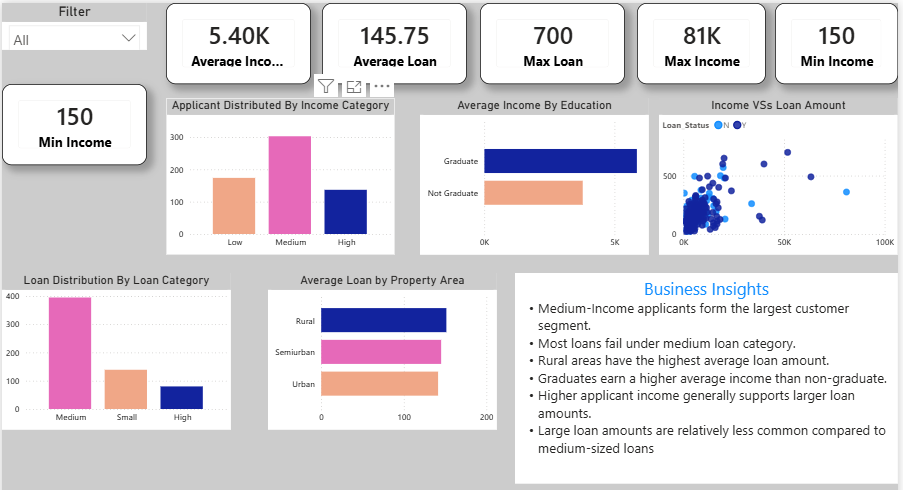

Layout of this report page (visuals, bound fields, positions):
{"tool":"powerbi","page":{"name":"Income & Loan Insights","canvas":[1280,720],"ordinal":2},"visuals":[{"type":"slicer","title":"Filter","fields":{"Values":["Loan_cleaned.Property_Area","Loan_cleaned.Education","Loan_cleaned.Loan_Status","Loan_cleaned.Income_Category"]},"box":[0,0,207.1,67.1],"z":0},{"type":"cardVisual","fields":{"Data":["Measures (2).Average Income"]},"box":[234.3,0,207.1,115.7],"z":1000},{"type":"cardVisual","fields":{"Data":["Measures (2).Average Loan"]},"box":[457.1,0,207.1,115.7],"z":2000},{"type":"cardVisual","fields":{"Data":["Measures (2).Max Loan"]},"box":[682.9,0,207.1,115.7],"z":3000},{"type":"cardVisual","fields":{"Data":["Measures (2).Max Income"]},"box":[907.1,0,184.3,115.7],"z":4000},{"type":"cardVisual","fields":{"Data":["Measures (2).Min Income"]},"box":[1104.3,0,175.7,115.7],"z":5000},{"type":"cardVisual","fields":{"Data":["Measures (2).Min Income"]},"box":[0,115.7,207.1,115.7],"z":6000},{"type":"clusteredColumnChart","title":"Applicant Distributed By Income Category","fields":{"Category":["Loan_cleaned.Income_Category"],"Y":["Measures (2).Total Applicants"]},"box":[234.3,135.7,327.1,224.3],"z":7000},{"type":"clusteredColumnChart","title":"Loan Distribution By Loan Category","fields":{"Y":["Measures (2).Total Applicants"],"Category":["Loan_cleaned.Loan_Category"]},"box":[0,385.7,327.1,224.3],"z":8000},{"type":"clusteredBarChart","title":"Average Loan by Property Area","fields":{"Category":["Loan_cleaned.Property_Area"],"Y":["Measures (2).Average Loan"]},"box":[380,385.7,327.1,224.3],"z":9000},{"type":"clusteredBarChart","title":"Average Income By Education","fields":{"Y":["Measures (2).Average Income"],"Category":["Loan_cleaned.Education"]},"box":[597.1,135.7,327.1,224.3],"z":10000},{"type":"scatterChart","title":"Income VSs Loan Amount","fields":{"X":["Loan_cleaned.ApplicantIncome"],"Series":["Loan_cleaned.Loan_Status"],"Y":["Loan_cleaned.LoanAmount"]},"box":[938.6,135.7,341.4,224.3],"z":11000},{"type":"textbox","box":[732.9,385.7,547.1,301.4],"z":12000}]}

Visuals, with their boxes on the page's 1280x720 design canvas (x1, y1, x2, y2). These are canvas units, not pixel positions in the 903x490 screenshot, which may show the page scaled, cropped or inside an application window:
"Filter" slicer: left=0, top=0, right=207, bottom=67
cardVisual - Measures (2).Average Income: left=234, top=0, right=441, bottom=116
cardVisual - Measures (2).Average Loan: left=457, top=0, right=664, bottom=116
cardVisual - Measures (2).Max Loan: left=683, top=0, right=890, bottom=116
cardVisual - Measures (2).Max Income: left=907, top=0, right=1091, bottom=116
cardVisual - Measures (2).Min Income: left=1104, top=0, right=1280, bottom=116
cardVisual - Measures (2).Min Income: left=0, top=116, right=207, bottom=231
"Applicant Distributed By Income Category" clusteredColumnChart: left=234, top=136, right=561, bottom=360
"Loan Distribution By Loan Category" clusteredColumnChart: left=0, top=386, right=327, bottom=610
"Average Loan by Property Area" clusteredBarChart: left=380, top=386, right=707, bottom=610
"Average Income By Education" clusteredBarChart: left=597, top=136, right=924, bottom=360
"Income VSs Loan Amount" scatterChart: left=939, top=136, right=1280, bottom=360
textbox: left=733, top=386, right=1280, bottom=687
